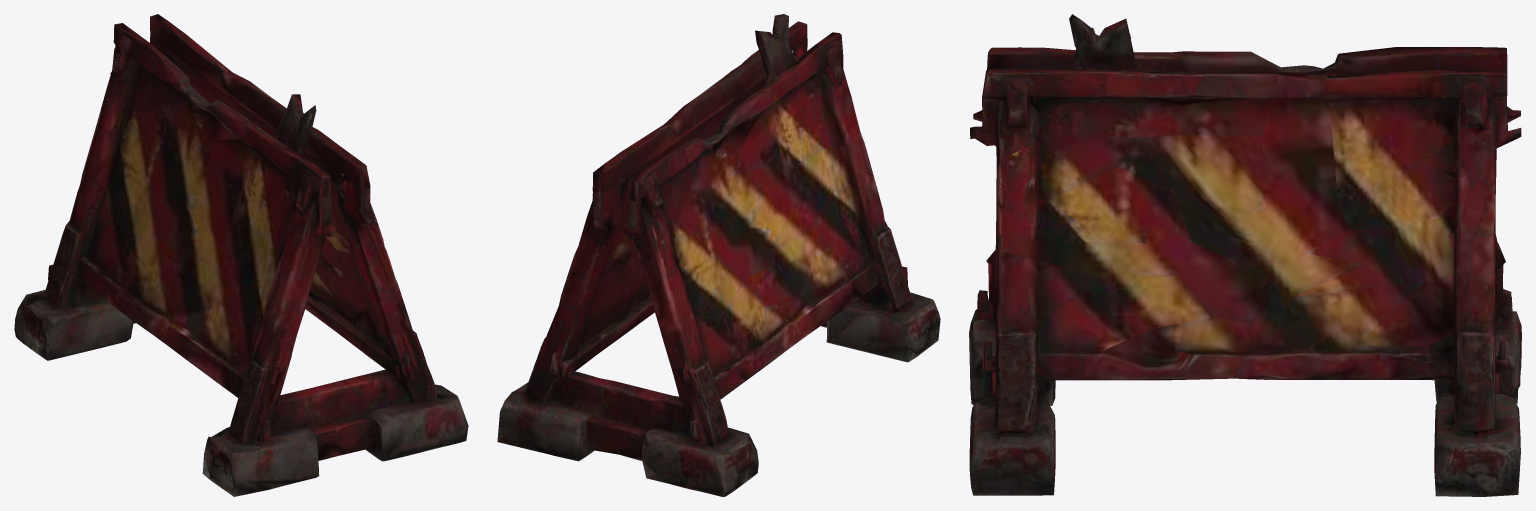
Rendered from barricade.glb.
3 renders of one model, left to right at view 1: azimuth 30°, elevation 25°; view 2: azimuth 150°, elevation 25°; view 3: azimuth 270°, elevation 25°, orthographic. The views are drawn at different scales.
Bounding box in the file's own units: 117 × 156 × 190.
1 material, 1 textured.
